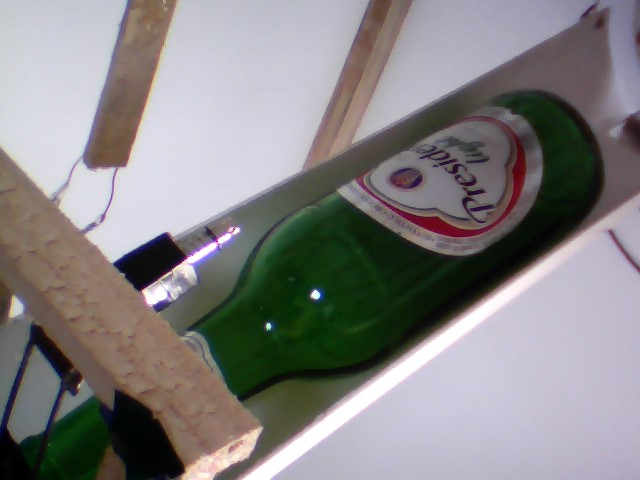vidrio: (166, 86, 608, 408)
